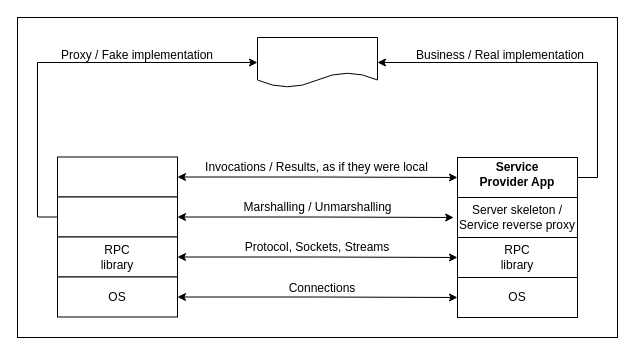
This 635x355 diagram has some shape labels left out. Each missing label, with the centre of its shape:
Client stub / Service proxy: pixel 117 216
Service API / Contract: pixel 317 62
Service Consumer App: pixel 117 176
